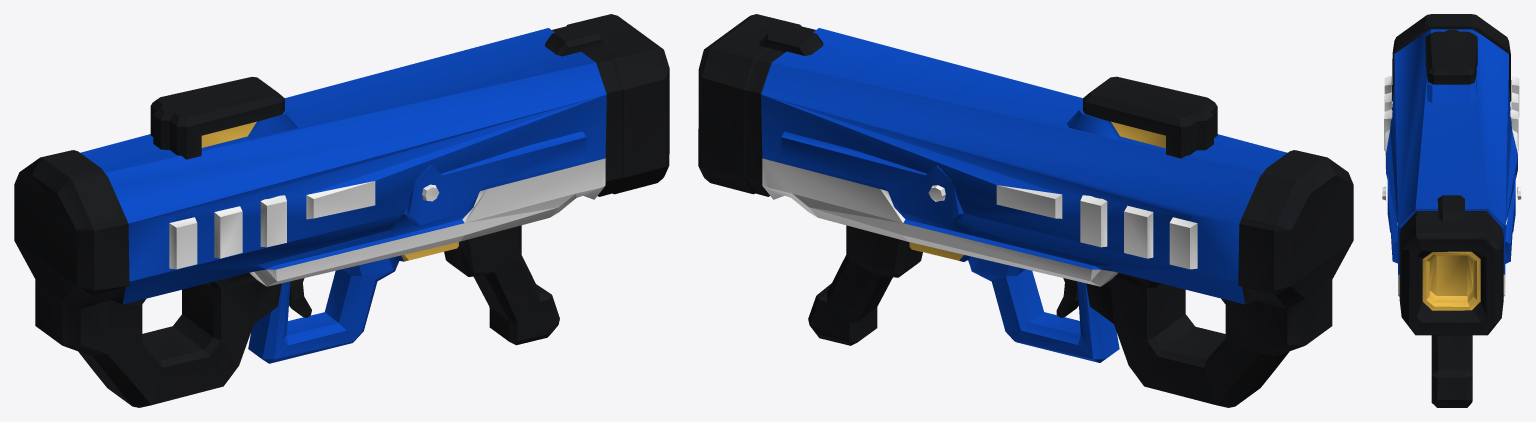
Rendered from BarrageWeapon.fbx.
The picture shows the model from 3 angles, left to right: view 1: azimuth 30°, elevation 25°; view 2: azimuth 150°, elevation 25°; view 3: azimuth 270°, elevation 25°; orthographic projection. The views are drawn at different scales.
Visible parts, largest first — view 1: Mesh.002; view 2: Mesh.002; view 3: Mesh.002.
Part boxes in pixels (x1=…): Mesh.002: x1=14, y1=14, x2=669, y2=407; Mesh.002: x1=698, y1=14, x2=1353, y2=407; Mesh.002: x1=1382, y1=14, x2=1521, y2=407.
Size of the model in its own units: 121 by 31.9 by 60.21.
